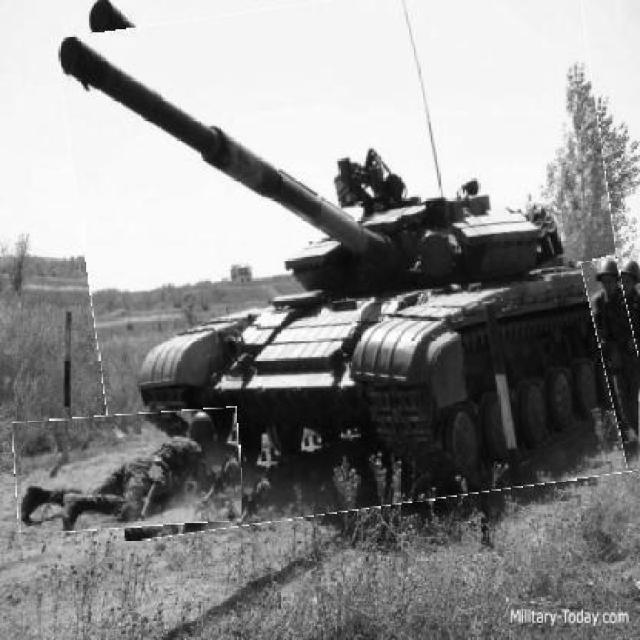Person: (15, 412, 242, 532), (592, 256, 639, 472)
Tank: (72, 1, 632, 527)
